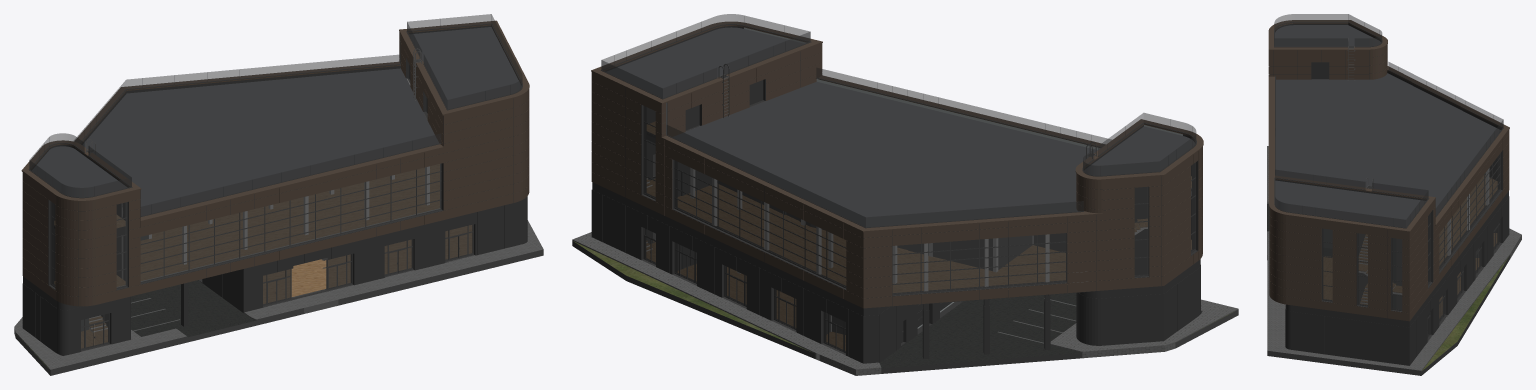
Rendered from komunarka.glb.
3 views of the same model, side by side, from view 1: azimuth 30°, elevation 25°; view 2: azimuth 150°, elevation 25°; view 3: azimuth 270°, elevation 25° (orthographic). The views are drawn at different scales.
Visible parts, largest first — view 1: object 20, object 18, object 23, object 24, object 2, object 25, object 4, object 3, object 16, Glass - Cognac, object 17, RAL 9010 _RAL 9010 _0; view 2: object 20, object 18, object 23, object 24, object 25, object 2, object 16, object 4, object 3, RAL 9010 _RAL 9010 _0, RAL 9011 _RAL 9011 _0, object 17 (+2 smaller); view 3: object 20, object 18, object 23, object 25, object 24, object 4, object 2, object 3, Glass - Cognac, object 9, RAL 9010 _RAL 9010 _0, RAL 9011 _RAL 9011 _0 (+1 smaller).
Part boxes in pixels (<box>): object 20: <box>32,27,521,215</box>; object 18: <box>21,20,529,306</box>; object 23: <box>22,23,527,355</box>; object 24: <box>51,163,473,348</box>; object 2: <box>54,164,471,348</box>; object 25: <box>29,14,522,216</box>; object 4: <box>14,220,543,369</box>; object 3: <box>50,163,473,350</box>; object 16: <box>131,280,256,337</box>; Glass - Cognac: <box>15,249,543,375</box>; object 17: <box>89,166,429,331</box>; RAL 9010 _RAL 9010 _0: <box>54,204,179,331</box>; object 20: <box>606,27,1194,227</box>; object 18: <box>591,21,1203,308</box>; object 23: <box>591,24,1200,363</box>; object 24: <box>644,106,1195,351</box>; object 25: <box>601,14,1196,227</box>; object 2: <box>646,121,1191,350</box>; object 16: <box>879,293,1201,368</box>; object 4: <box>572,232,1238,375</box>; object 3: <box>643,106,1195,353</box>; RAL 9010 _RAL 9010 _0: <box>646,107,1147,343</box>; RAL 9011 _RAL 9011 _0: <box>572,241,1082,373</box>; object 17: <box>646,168,1147,331</box>; object 20: <box>1275,25,1500,248</box>; object 18: <box>1268,20,1509,321</box>; object 23: <box>1270,22,1509,365</box>; object 25: <box>1274,14,1503,227</box>; object 24: <box>1322,153,1500,336</box>; object 4: <box>1267,146,1521,371</box>; object 2: <box>1323,175,1497,317</box>; object 3: <box>1322,153,1500,337</box>; Glass - Cognac: <box>1267,252,1511,375</box>; object 9: <box>1422,257,1508,370</box>; RAL 9010 _RAL 9010 _0: <box>1323,234,1478,309</box>; RAL 9011 _RAL 9011 _0: <box>1421,255,1510,375</box>.
Size of the model in its own units: 53.52 by 16.75 by 25.65.
26 materials, 7 textured.
